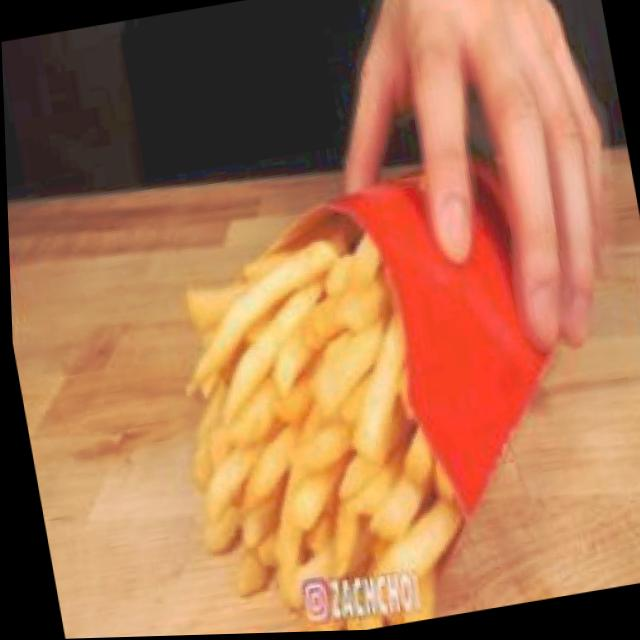french fries: (155, 217, 477, 636)
